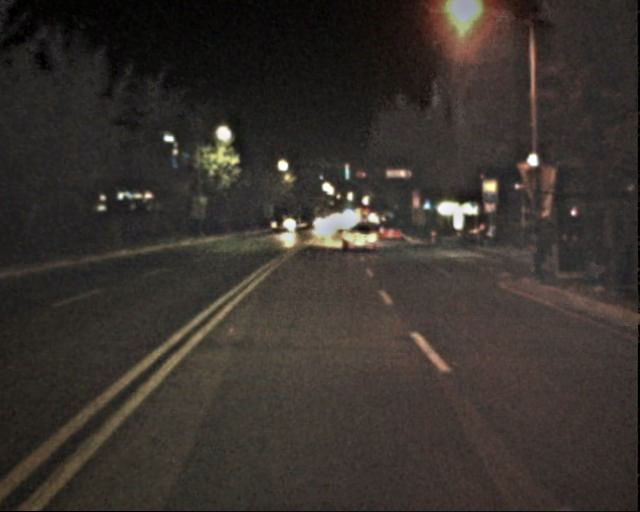person: (521, 226, 549, 294)
